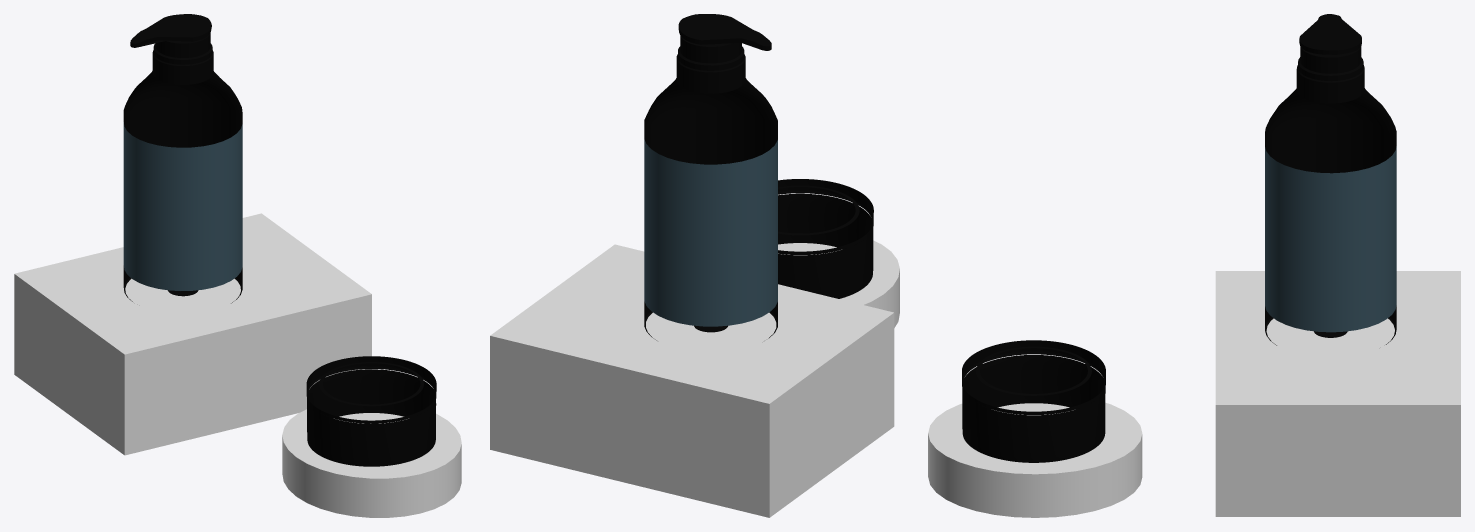
The model's file is beautyProducts.gltf.
3 views of the same model, side by side, from view 1: azimuth 30°, elevation 25°; view 2: azimuth 150°, elevation 25°; view 3: azimuth 270°, elevation 25° (orthographic). The views are drawn at different scales.
Visible parts, largest first — view 1: Cube, objectTwoLabel, object One, Cylinder, Circle, Circle.001; view 2: Cube, objectTwoLabel, Circle, object One, Cylinder, Circle.001; view 3: Cube, objectTwoLabel, object One, Cylinder, Circle, Circle.001.
Part boxes in pixels (x1,y1,x2,y2): Cube: (14, 213, 371, 455); objectTwoLabel: (123, 122, 242, 290); object One: (306, 356, 436, 466); Cylinder: (282, 409, 461, 517); Circle: (123, 33, 242, 303); Circle.001: (130, 14, 211, 47); Cube: (490, 244, 894, 517); objectTwoLabel: (644, 139, 777, 326); Circle: (644, 35, 777, 340); object One: (778, 179, 873, 298); Cylinder: (778, 240, 899, 327); Circle.001: (678, 14, 771, 50); Cube: (1215, 271, 1460, 516); objectTwoLabel: (1265, 146, 1396, 332); object One: (962, 340, 1105, 462); Cylinder: (928, 402, 1142, 517); Circle: (1265, 46, 1396, 345); Circle.001: (1299, 14, 1361, 54).
Bounding box in the file's own units: 5.07 × 7.24 × 8.51.
